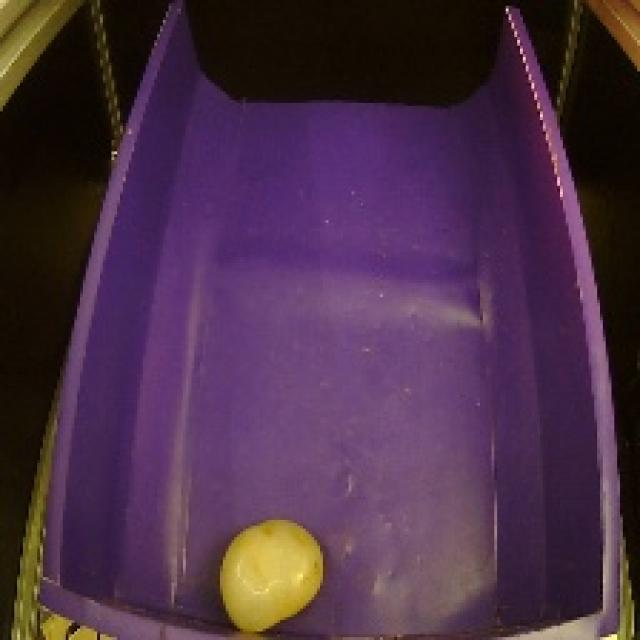cobbles: (210, 504, 334, 638)
